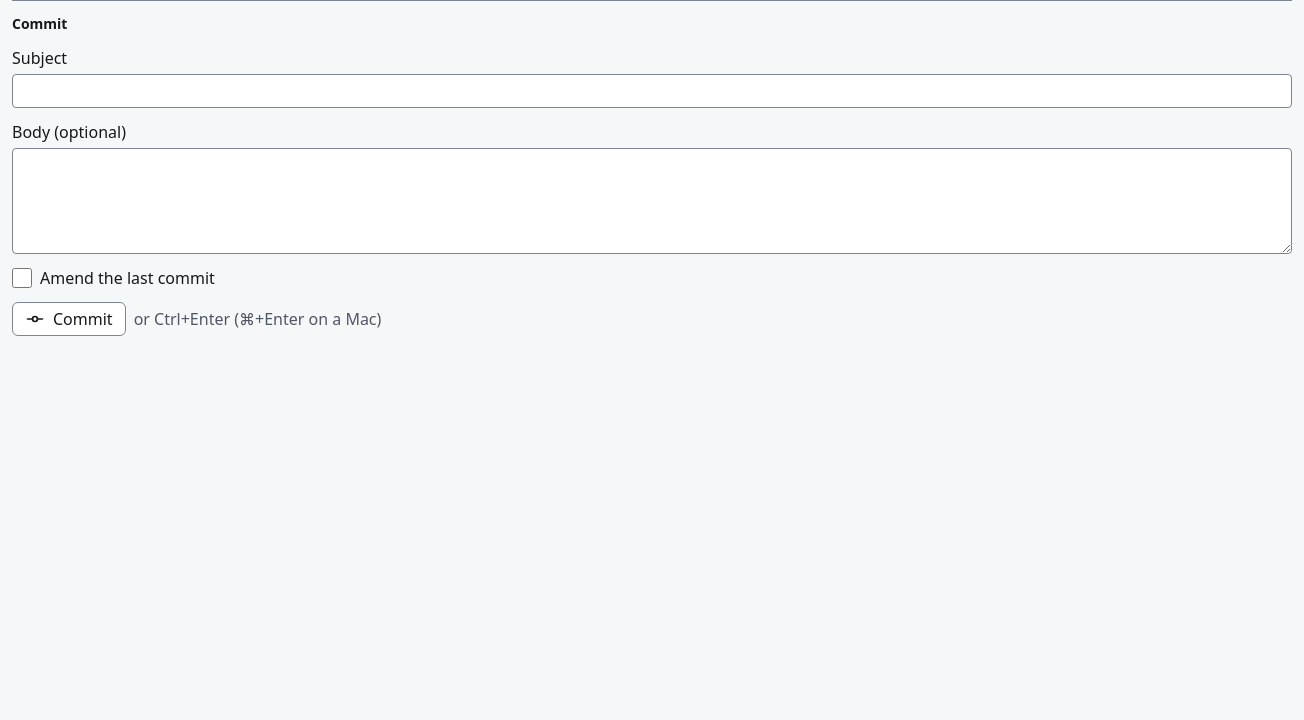
Test: a failing pre-commit hook stops the commit, shows what it said and keeps the message
The width and height of the screenshot is (1304, 720).
Type "Add a" into the field labelled "Subject" at (652,91), box 12,74 -> 1292,108
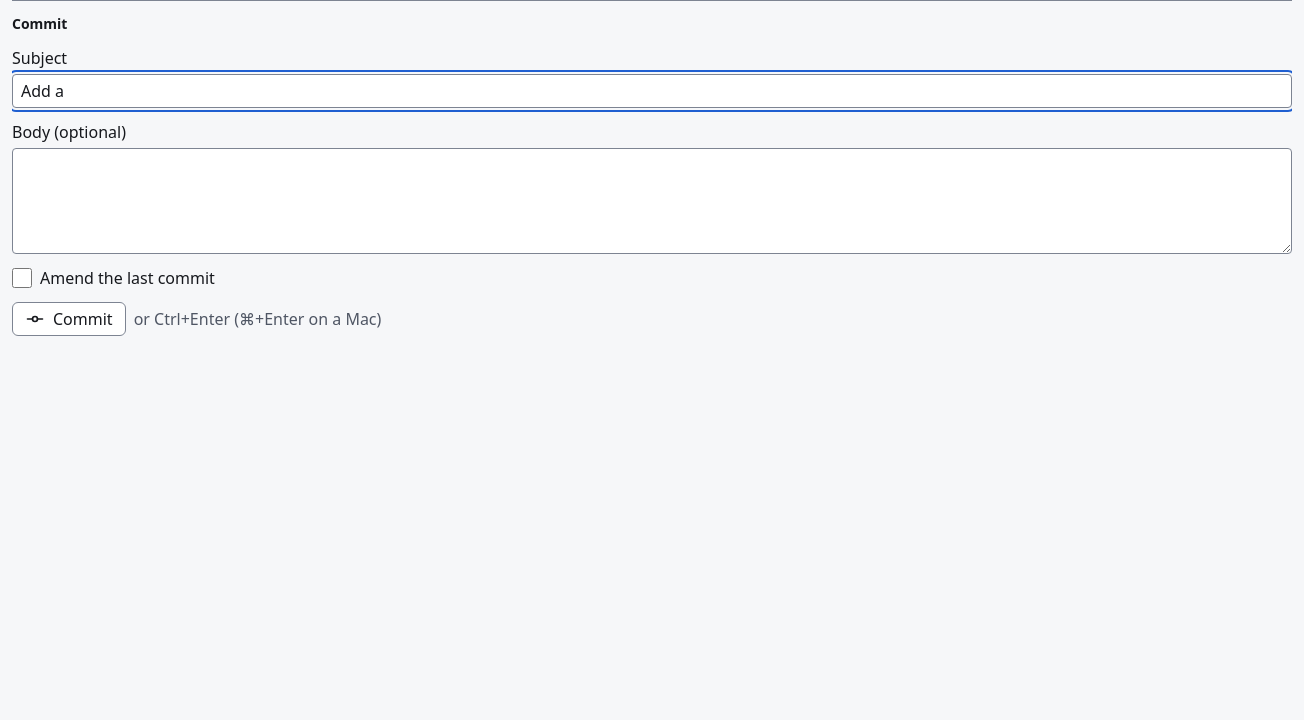
Type "With a body." into the text box labelled "Body (optional)" at (652,201), box 12,148 -> 1292,254
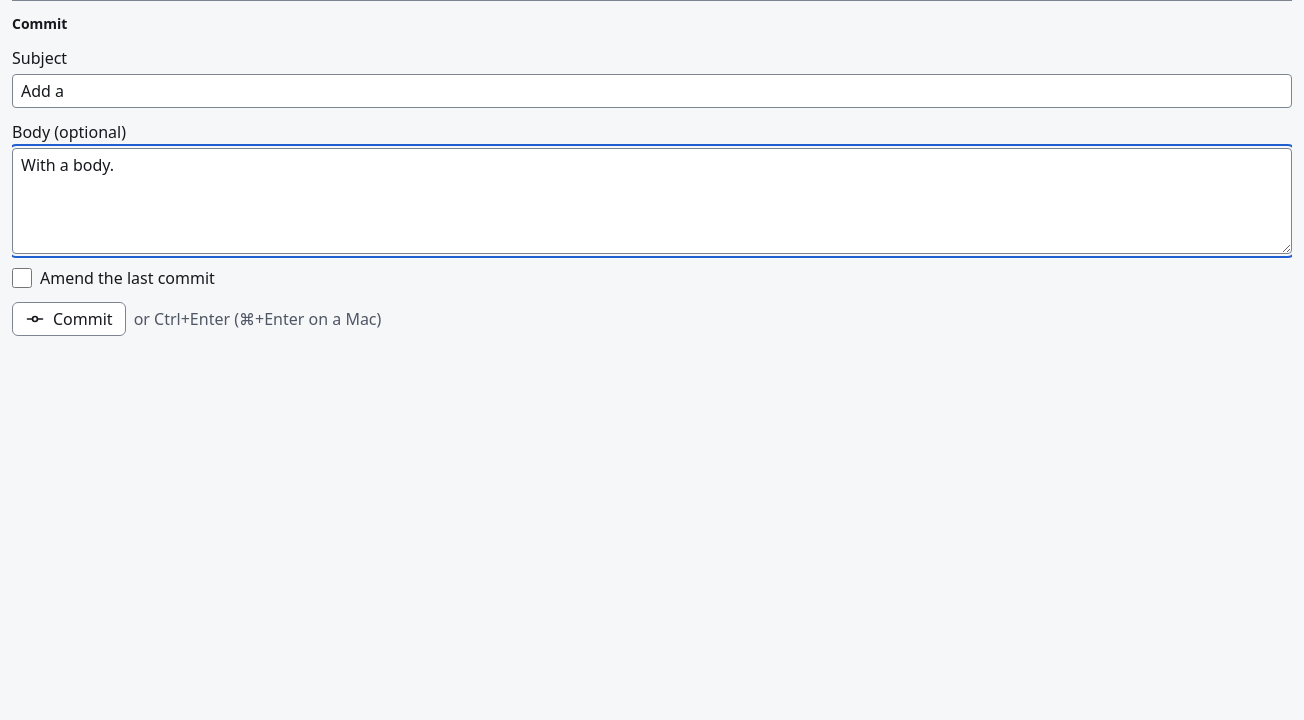
Click the button "Commit" at (69,319), box 12,302 -> 126,336
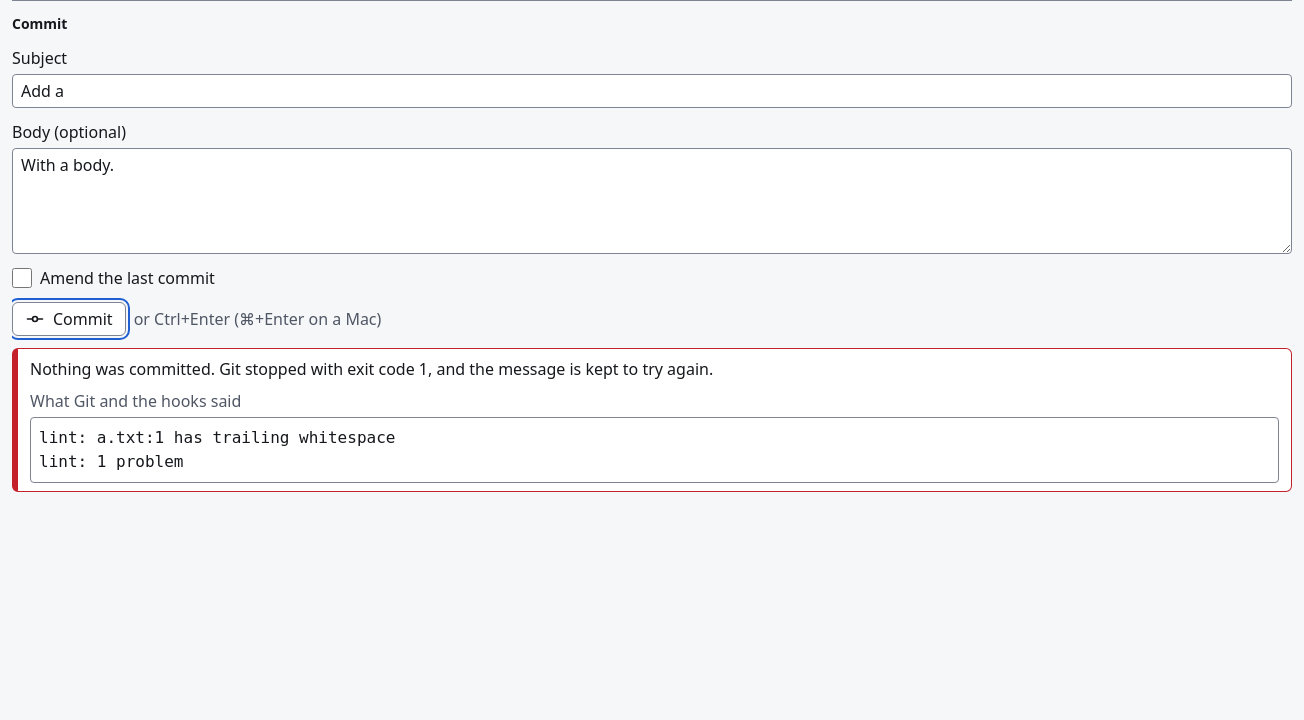
Expected: the message shows "Nothing was committed. Git stopped with exit code 1, and the message is kept to try again.", 30,358 -> 713,380
